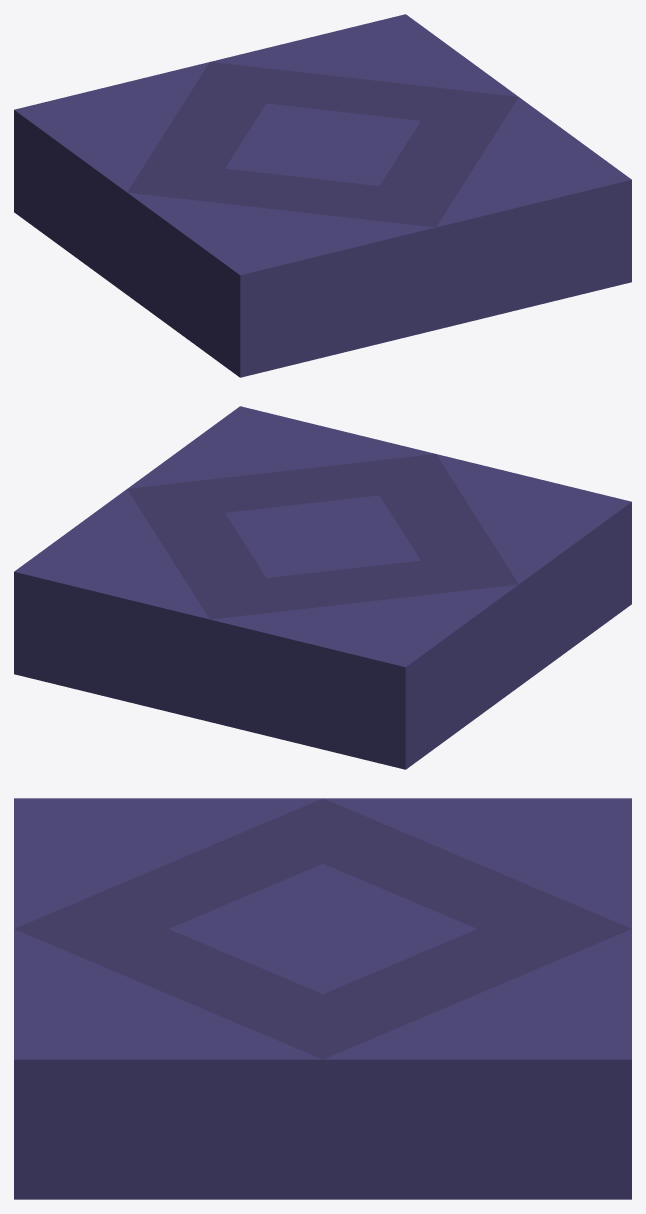
File: movingPlatform.fbx
3 renders of one model, top to bottom at view 1: azimuth 30°, elevation 25°; view 2: azimuth 150°, elevation 25°; view 3: azimuth 270°, elevation 25°, orthographic. The views are drawn at different scales.
Visible parts, largest first — view 1: Cube.001; view 2: Cube.001; view 3: Cube.001.
Part boxes in pixels (x1=…): Cube.001: x1=14, y1=14, x2=631, y2=377; Cube.001: x1=14, y1=406, x2=631, y2=769; Cube.001: x1=14, y1=798, x2=631, y2=1199.
Size of the model in its own units: 400 by 100 by 400.
